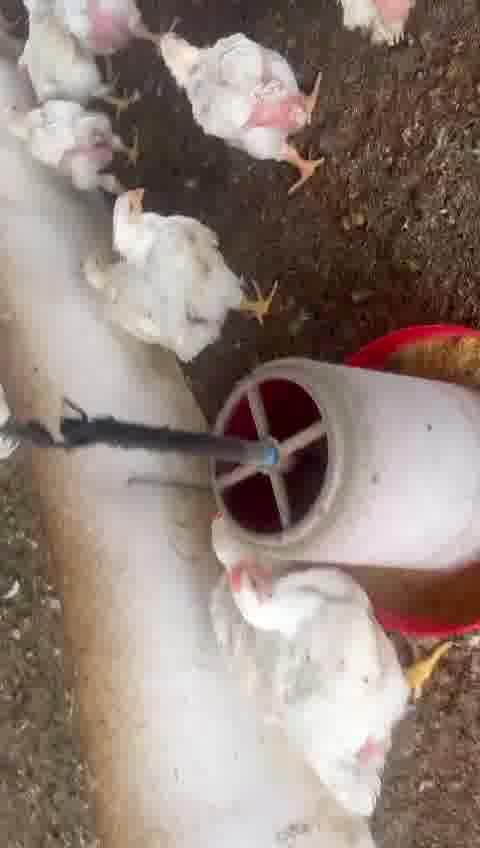AbNormal: (72, 243, 157, 362)
Normal: (221, 547, 429, 812), (154, 18, 356, 206), (111, 177, 281, 337), (0, 87, 139, 198)
